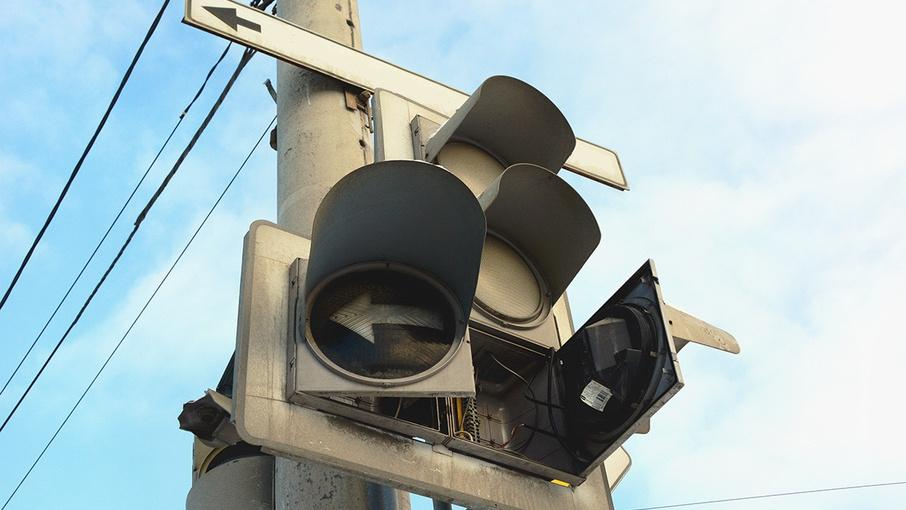off traffic light: (238, 76, 740, 510)
